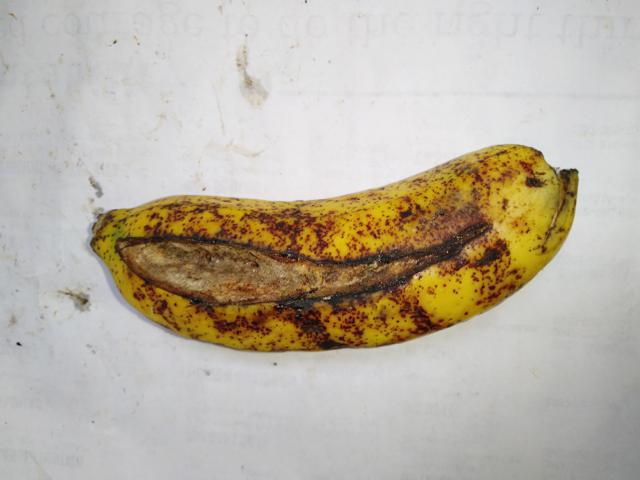rotten: (105, 200, 497, 345)
